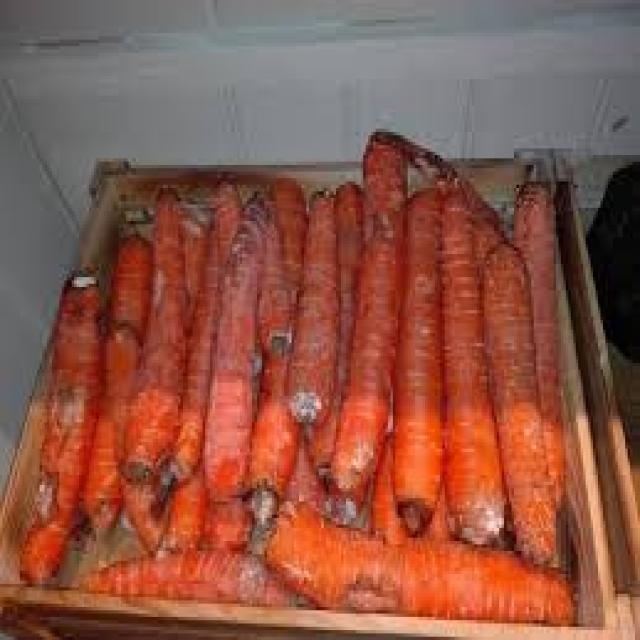Stale_Carrot: (454, 464, 571, 575), (289, 367, 395, 487), (489, 178, 572, 278), (104, 456, 216, 530), (482, 508, 585, 582), (222, 196, 294, 278), (46, 253, 116, 320)
